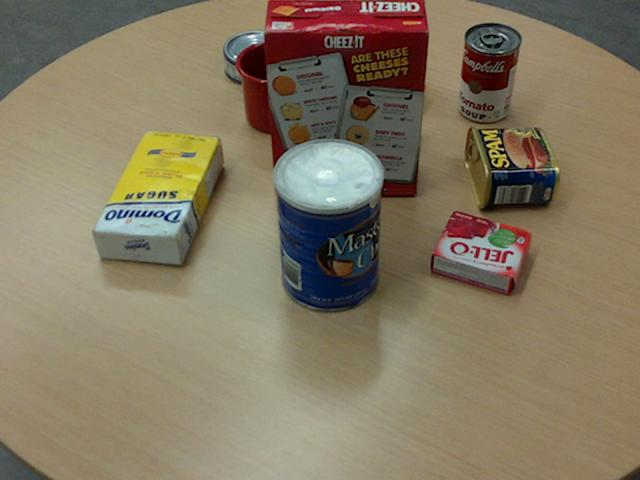cracker_box: (261, 0, 428, 194)
gelatin_box: (430, 209, 533, 293)
large_marker: (405, 48, 427, 139)
master_chef_can: (272, 138, 382, 312)
mug: (234, 40, 318, 132)
mustard_bottle: (295, 8, 425, 96)
potted_meat_can: (463, 125, 558, 208)
sugar_box: (90, 130, 221, 264)
tomato_soup_can: (458, 22, 521, 121)
tuna_fish_can: (222, 29, 287, 84)
